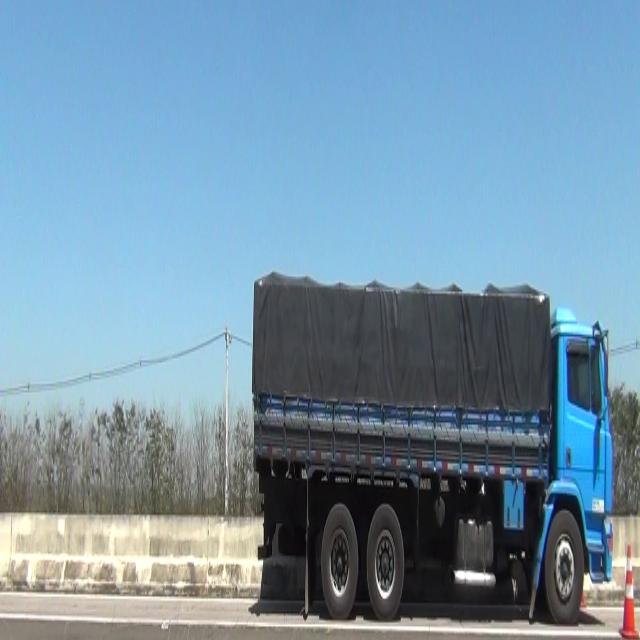-axle: (366, 503, 406, 621), (321, 502, 359, 622), (546, 508, 584, 626)
